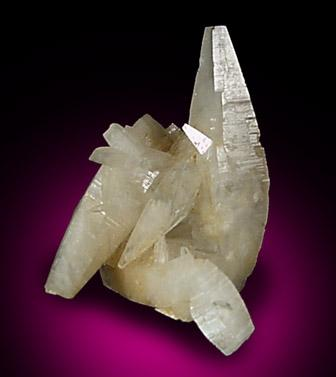prehnite: (43, 25, 271, 358)
